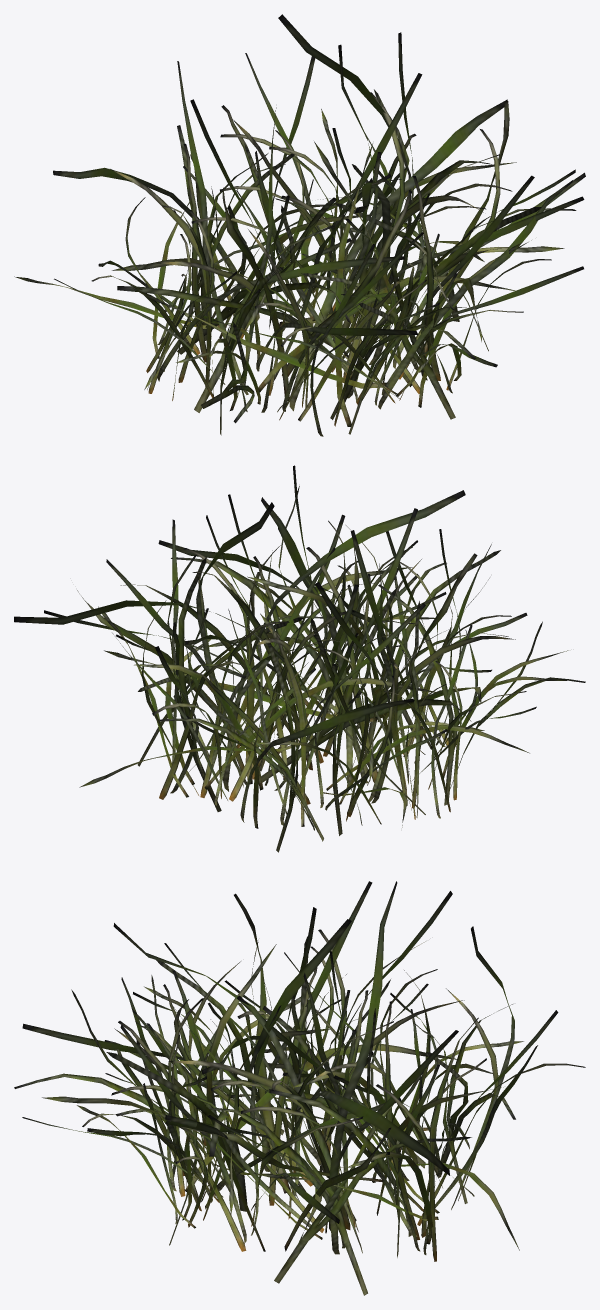
The model's file is grass_medium_01.gltf.
The picture shows the model from 3 angles, top to bottom: view 1: azimuth 30°, elevation 25°; view 2: azimuth 150°, elevation 25°; view 3: azimuth 270°, elevation 25°; orthographic projection. The views are drawn at different scales.
Parts seen in each view (by area): view 1: grass_medium_01; view 2: grass_medium_01; view 3: grass_medium_01.
Boxes of the visible parts, bbox=[...] form: grass_medium_01: bbox=[14, 14, 585, 436]; grass_medium_01: bbox=[14, 465, 585, 852]; grass_medium_01: bbox=[14, 881, 585, 1295].
Size of the model in its own units: 0.3627 by 0.2276 by 0.3371.
1 material, 1 textured.
